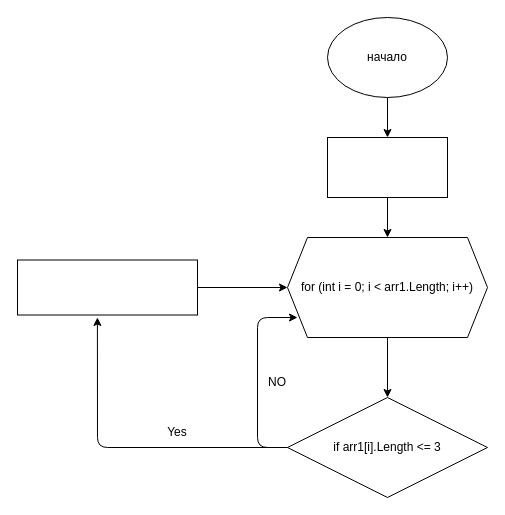
Image size: 505x515. Some labels were removed from this diagram. The centre of each missing label's shape, as x and y in pixels:
"arr2[count] = arr1[i]; count++;" belongs at point (107, 287).
"string[] arr1 string[] arr2 int count = 0" belongs at point (387, 167).
